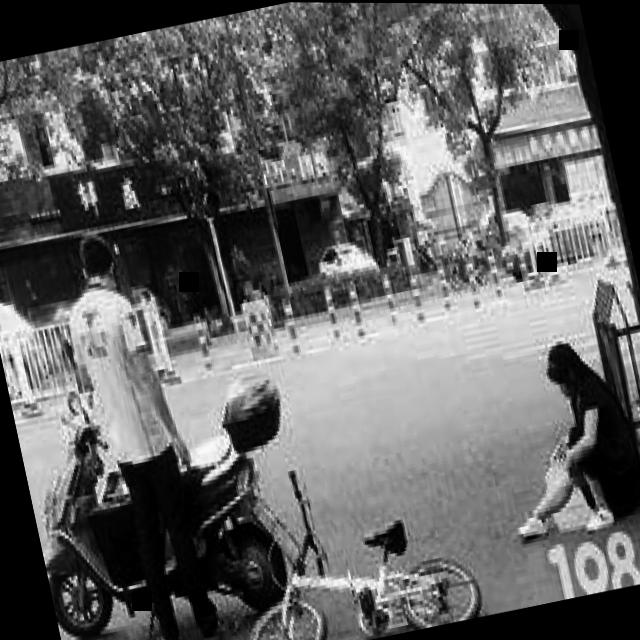Fall-Detected: (467, 309, 640, 546)
